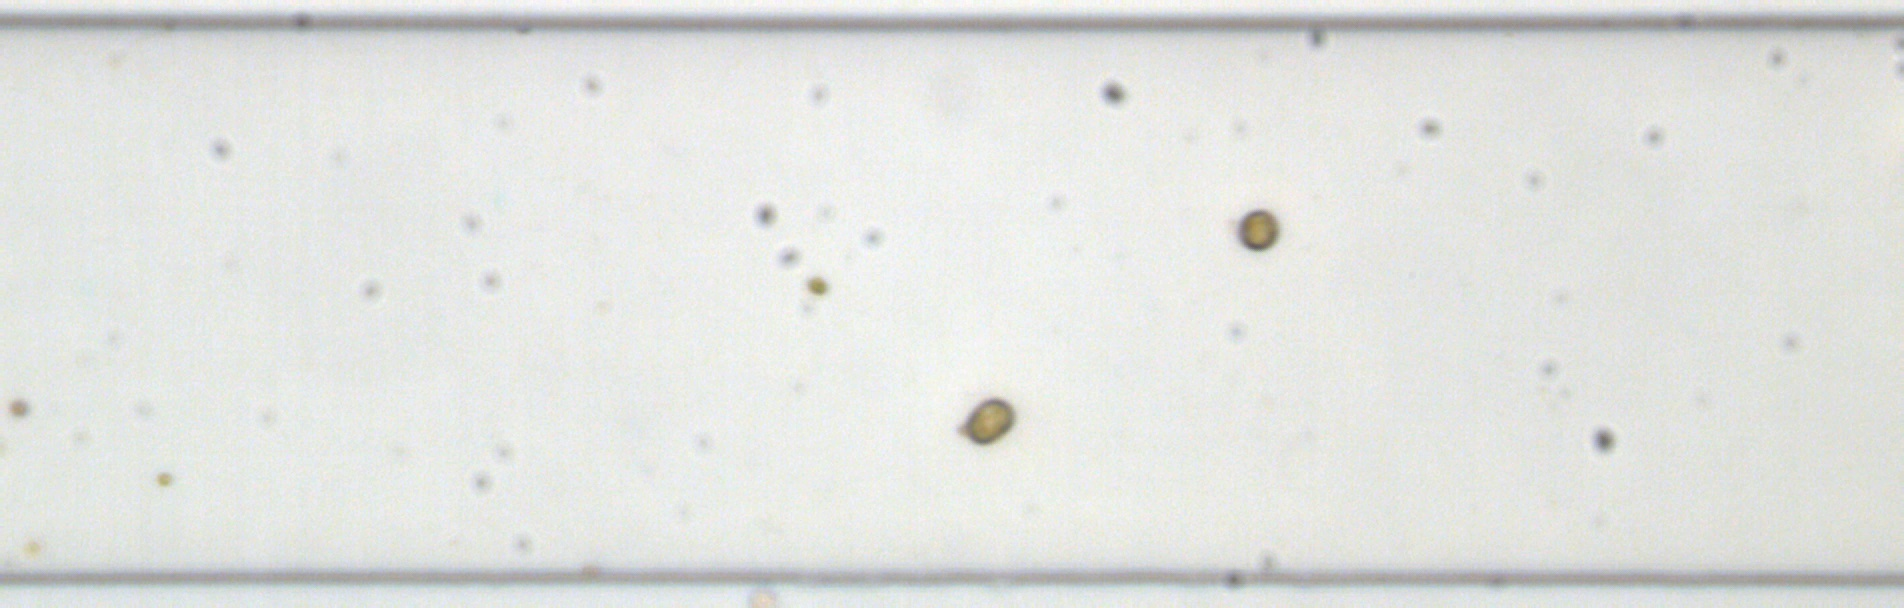Chlorella: (8, 397, 30, 417), (805, 274, 828, 292), (154, 470, 175, 487), (24, 538, 42, 553)
Effrenium: (960, 394, 1018, 445), (1234, 205, 1281, 252)
